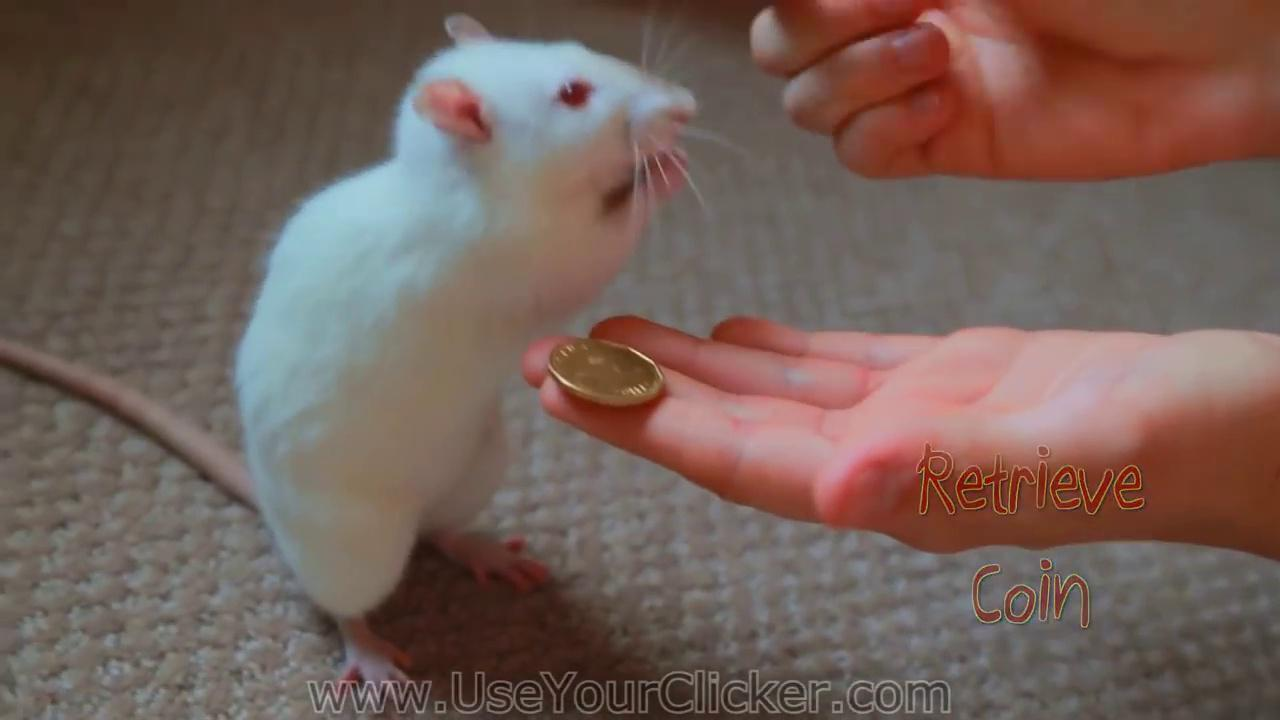rat: (0, 14, 698, 703)
